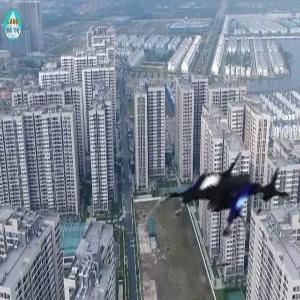drone: (155, 136, 290, 271)
